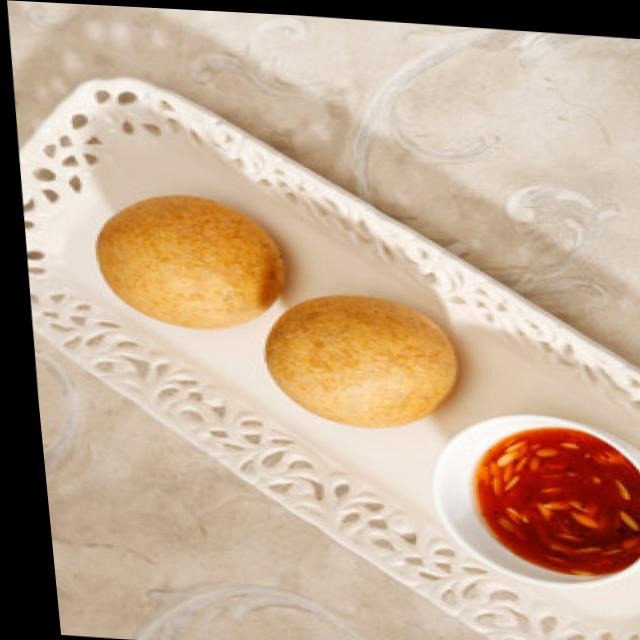BONDA: (94, 192, 457, 433)
PICKLE: (468, 426, 640, 576)
